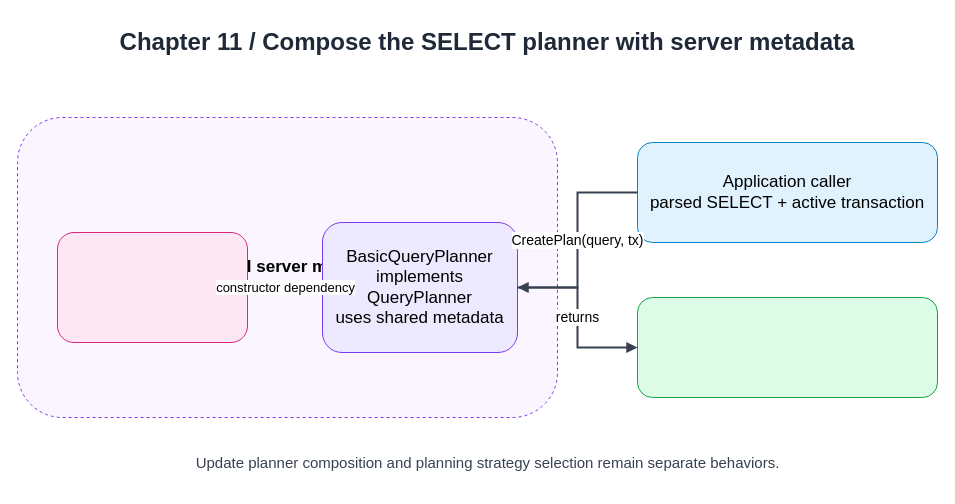
Image size: 955x504. Some labels were removed from this diagram. Each missing label, with the centre of its shape:
"Executable query Plan schema · scan · estimates" goes at pixel 787 347.
"Metadata facade layouts · views · statistics" goes at pixel 152 287.
